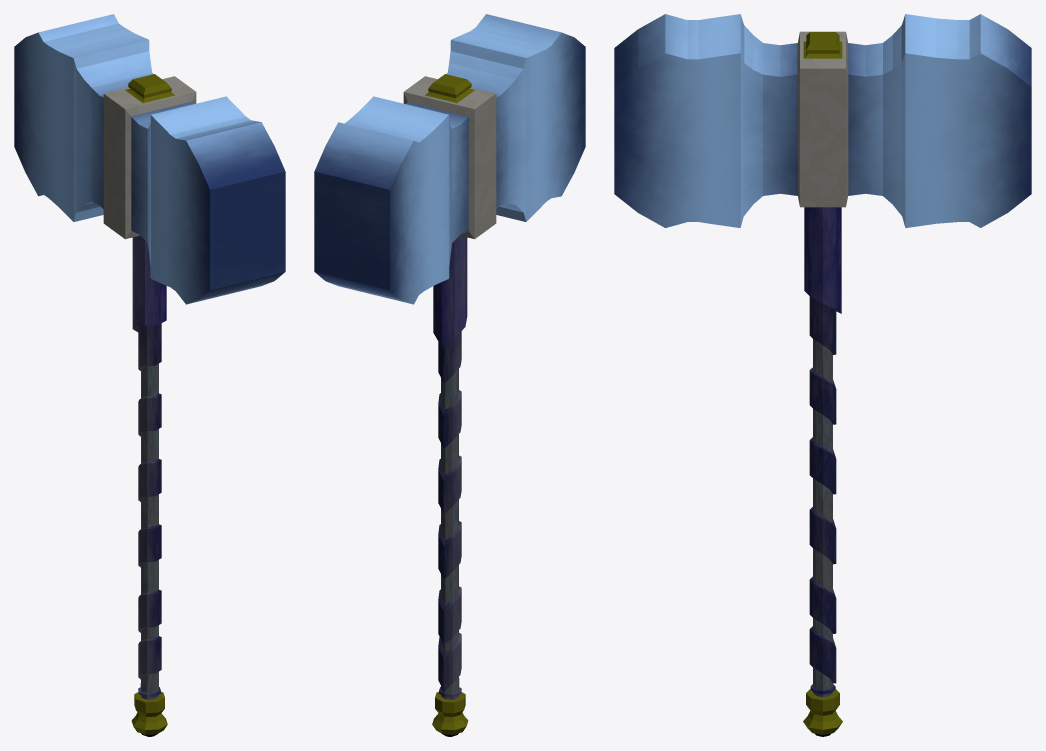
The model's file is GuardiaoDosCeus.fbx.
3 renders of one model, left to right at view 1: azimuth 30°, elevation 25°; view 2: azimuth 150°, elevation 25°; view 3: azimuth 270°, elevation 25°, orthographic. The views are drawn at different scales.
Parts seen in each view (by area): view 1: GuardiaoDosCeus; view 2: GuardiaoDosCeus; view 3: GuardiaoDosCeus.
Boxes of the visible parts, box(x1,y1,x2,y2) form: GuardiaoDosCeus: box(14, 14, 285, 736); GuardiaoDosCeus: box(314, 14, 585, 736); GuardiaoDosCeus: box(614, 14, 1031, 736).
Bounding box in the file's own units: 17.86 × 149 × 80.08.
